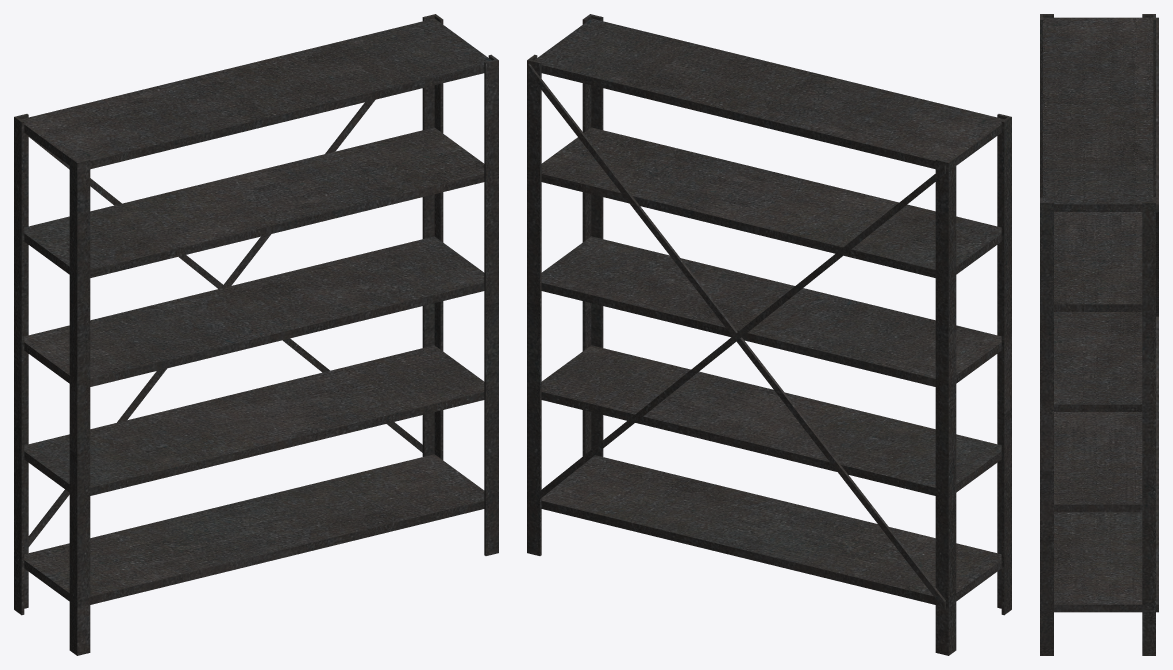
File: shelf_mx_3_1.obj
3 renders of one model, left to right at view 1: azimuth 30°, elevation 25°; view 2: azimuth 150°, elevation 25°; view 3: azimuth 270°, elevation 25°, orthographic. The views are drawn at different scales.
Parts seen in each view (by area): view 1: shelf_mx_3_1; view 2: shelf_mx_3_1; view 3: shelf_mx_3_1.
Part boxes in pixels (x1,y1,x2,y2): shelf_mx_3_1: (14,14,498,655); shelf_mx_3_1: (527,14,1011,655); shelf_mx_3_1: (1040,14,1158,655).
Size of the model in its own units: 1.62 by 1.81 by 0.43.
